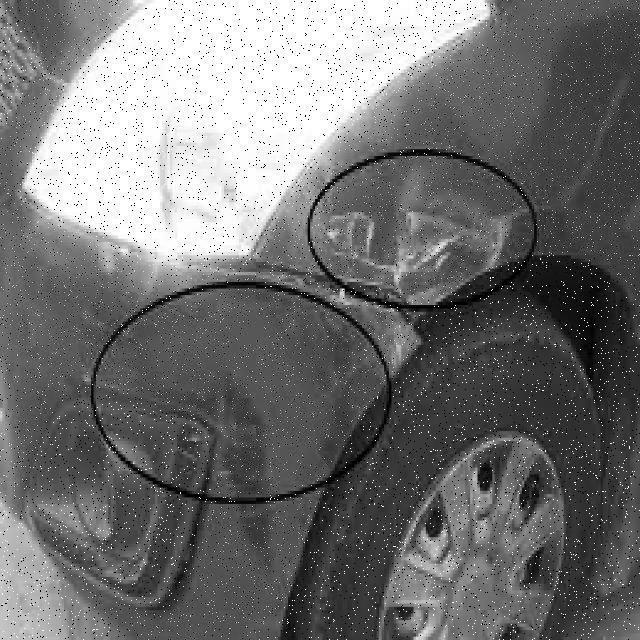fender-dent: (259, 71, 638, 392)
front-bumper-dent: (0, 249, 426, 637)
